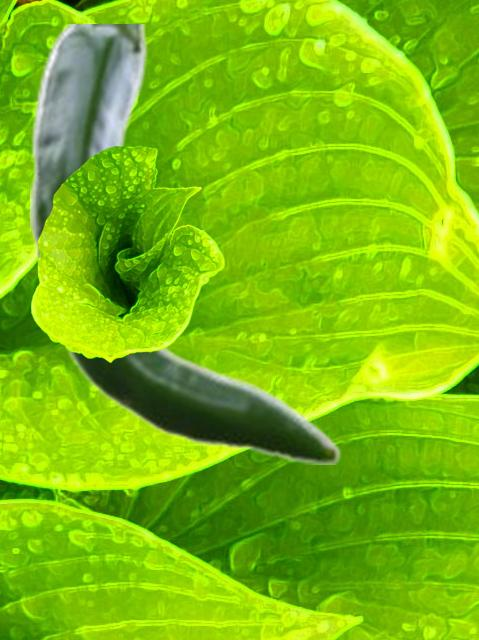green_chili: (30, 24, 341, 463)
